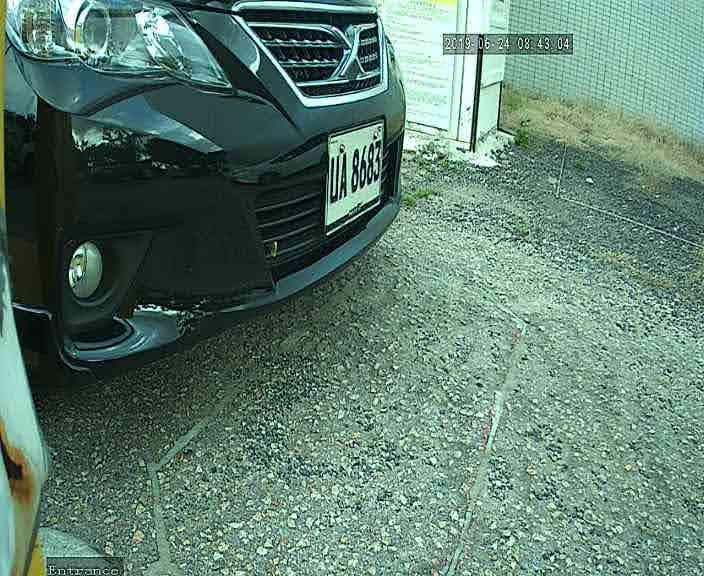privatecar: (9, 2, 413, 380)
